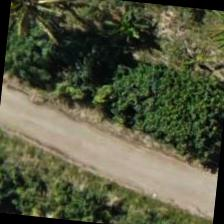Kelapa_Sawit: (6, 0, 74, 56)
